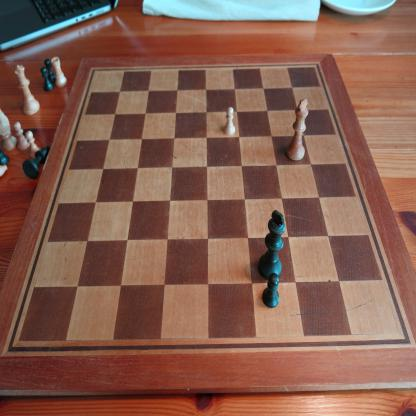black-king: (258, 209, 286, 280)
black-pawn: (262, 272, 280, 309), (40, 66, 55, 92), (44, 59, 57, 83)
white-bishop: (22, 144, 50, 180)
white-king: (285, 98, 309, 162)
white-knight: (1, 107, 18, 152)
white-pawn: (12, 122, 30, 152), (25, 130, 41, 159), (224, 107, 235, 136)
white-queen: (13, 64, 41, 116)
white-rook: (50, 56, 68, 88)
